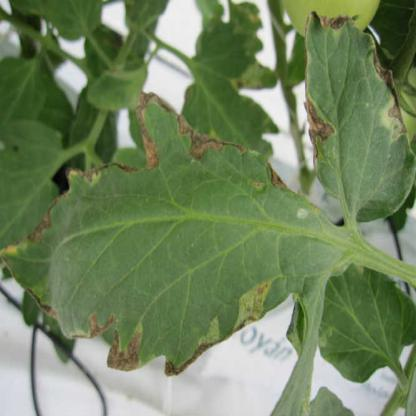Tomato leaf bacterial spot: (5, 93, 332, 379), (296, 9, 415, 241)
